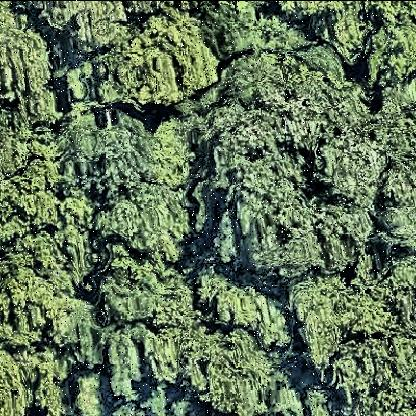tree-top: (197, 53, 383, 273), (278, 267, 412, 415), (103, 6, 223, 116), (88, 114, 166, 250), (1, 1, 54, 170), (196, 271, 298, 357), (187, 329, 275, 416), (33, 1, 133, 51), (361, 1, 416, 91), (314, 1, 377, 63), (70, 373, 110, 416)
